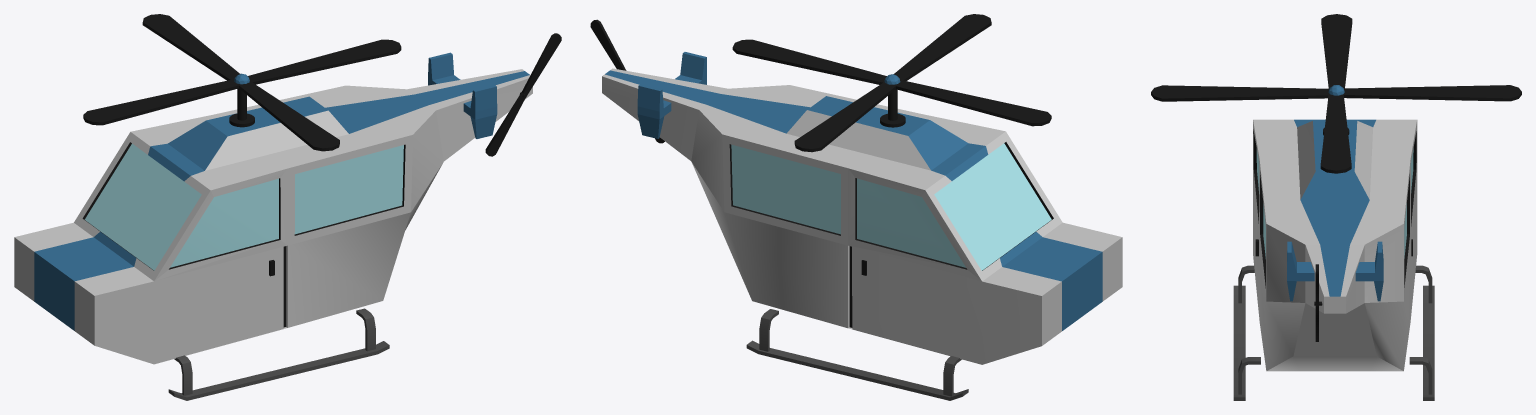
File: Helicopter.gltf
3 views of the same model, side by side, from view 1: azimuth 30°, elevation 25°; view 2: azimuth 150°, elevation 25°; view 3: azimuth 270°, elevation 25° (orthographic). The views are drawn at different scales.
Visible parts, largest first — view 1: Box001; view 2: Box001; view 3: Box001.
Boxes of the visible parts, x1,y1,x2,y2 form: Box001: (14,14,561,400); Box001: (590,14,1122,400); Box001: (1151,14,1521,400).
Size of the model in its own units: 67.56 by 34.26 by 42.63.
